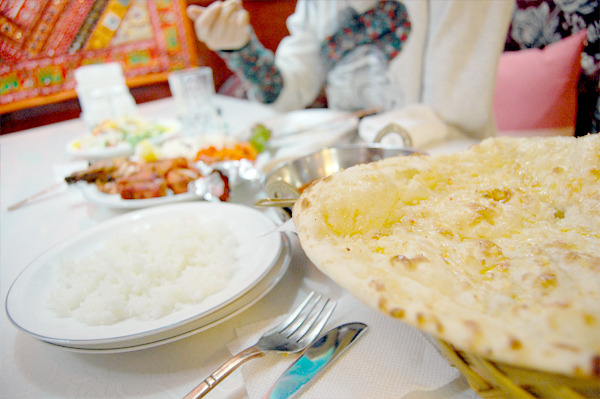plain rice: (60, 231, 219, 301)
